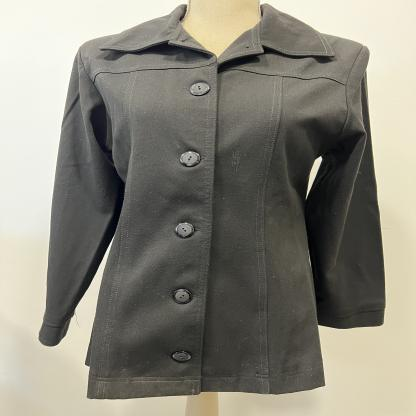stain: (228, 136, 246, 173)
